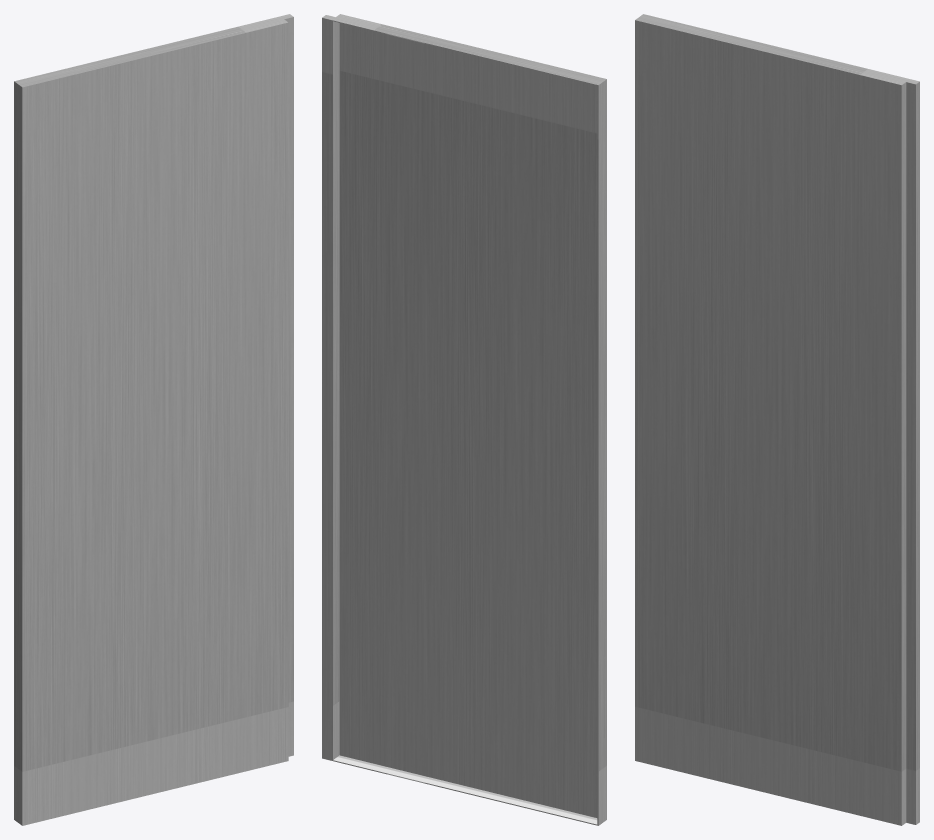
File: right_outer_door.fbx
3 views of the same model, side by side, from view 1: azimuth 30°, elevation 25°; view 2: azimuth 150°, elevation 25°; view 3: azimuth 330°, elevation 25° (orthographic).
Parts seen in each view (by area): view 1: polySurface29; view 2: polySurface29; view 3: polySurface29.
Part boxes in pixels (left/top/right/bottom): polySurface29: left=14, top=14, right=293, bottom=825; polySurface29: left=322, top=14, right=606, bottom=825; polySurface29: left=635, top=14, right=919, bottom=825.
Size of the model in its own units: 10.31 by 26.4 by 0.5436.
1 material, 1 textured.
